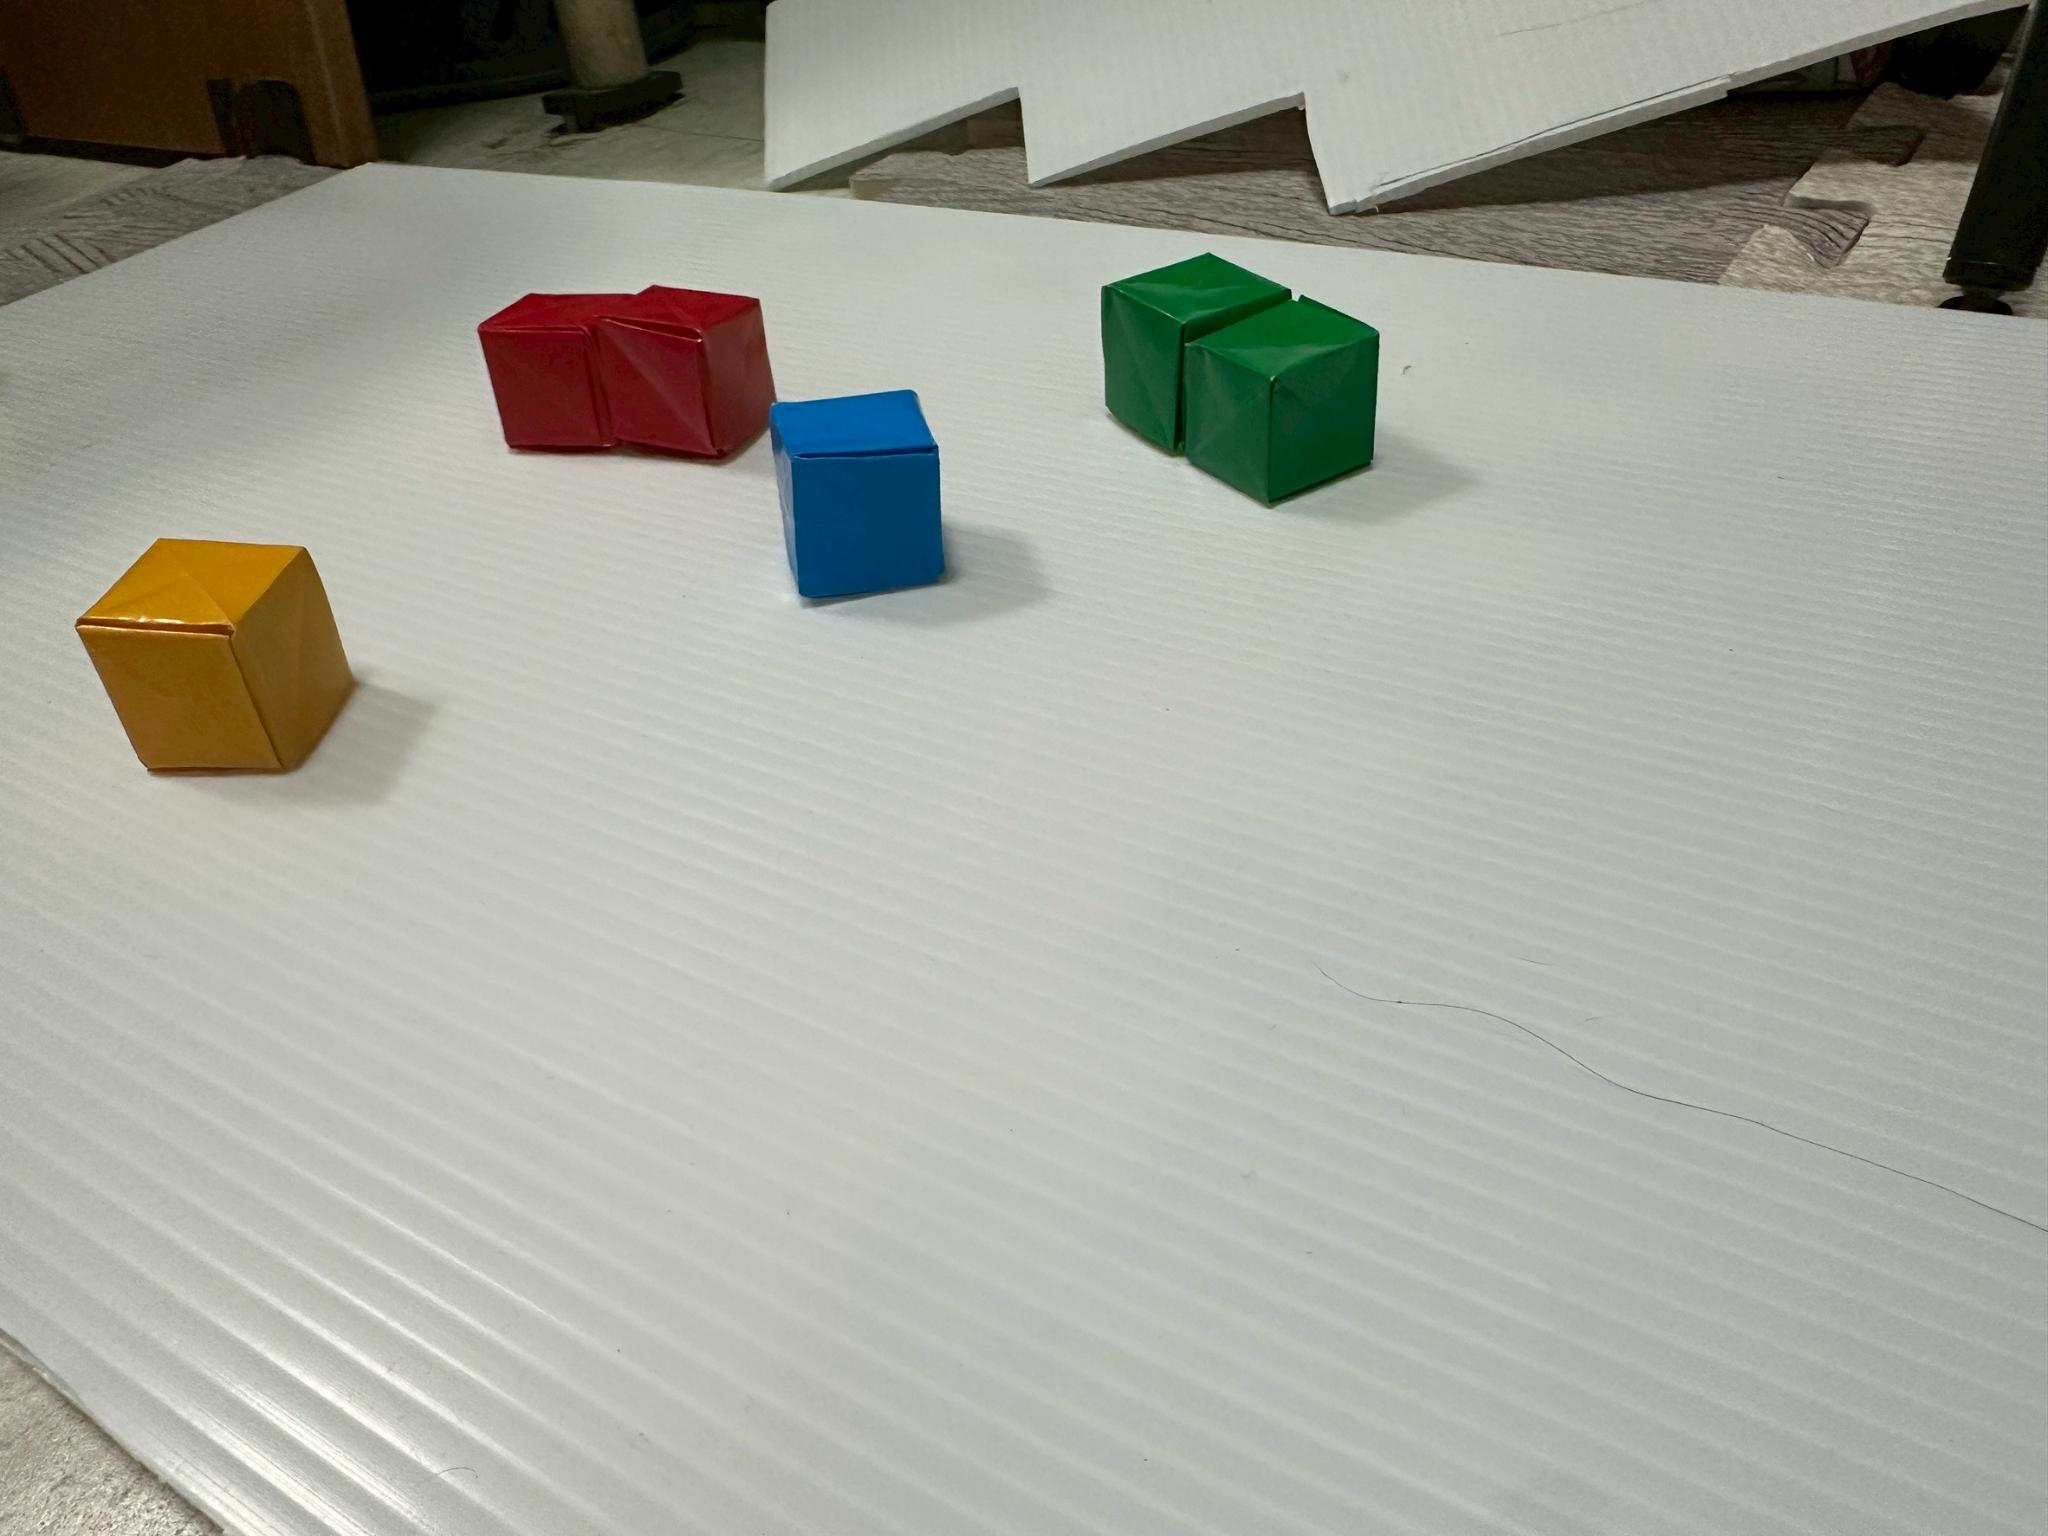cube: (77, 541, 353, 773), (1184, 298, 1379, 502), (771, 390, 945, 600), (1101, 255, 1290, 449), (593, 286, 774, 458), (479, 294, 639, 452)
